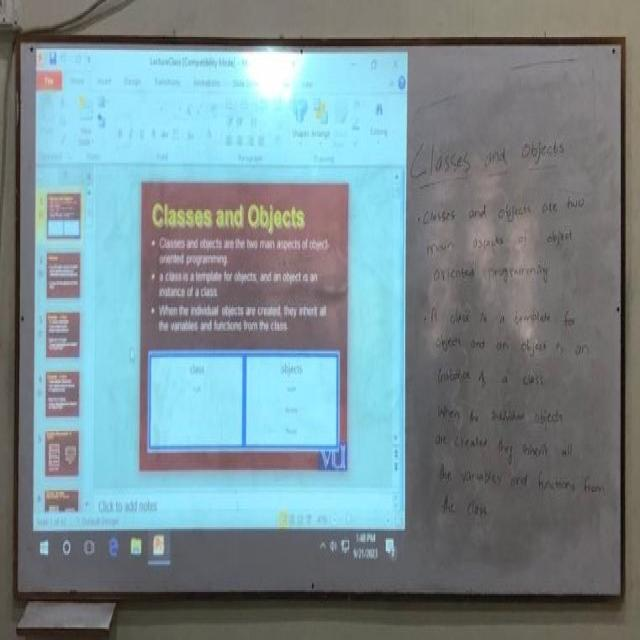Slide: (33, 47, 408, 576)
White-board: (15, 39, 624, 597)
